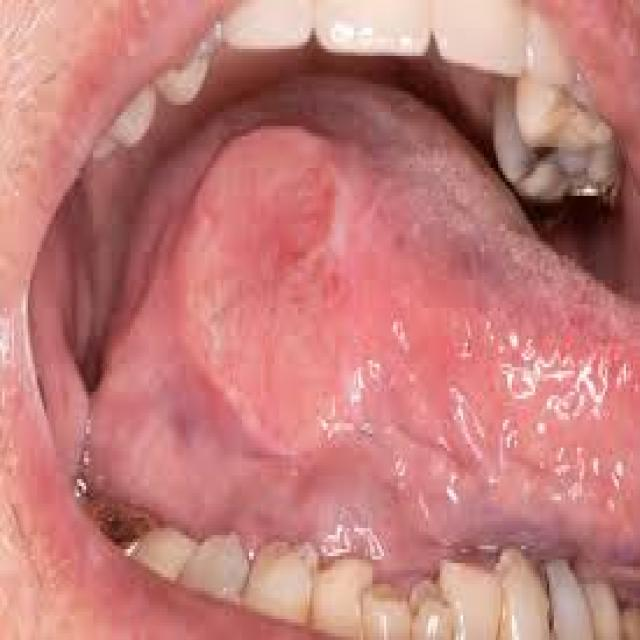left_region: (152, 140, 410, 486)
